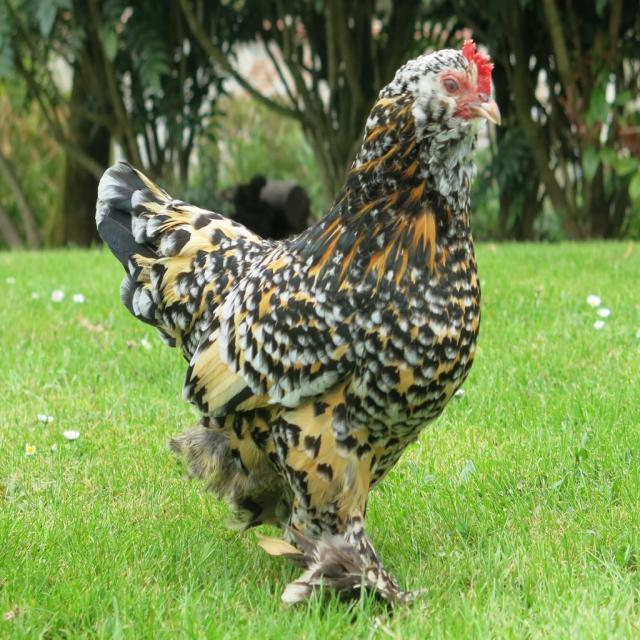Chicken: (103, 31, 488, 600)
